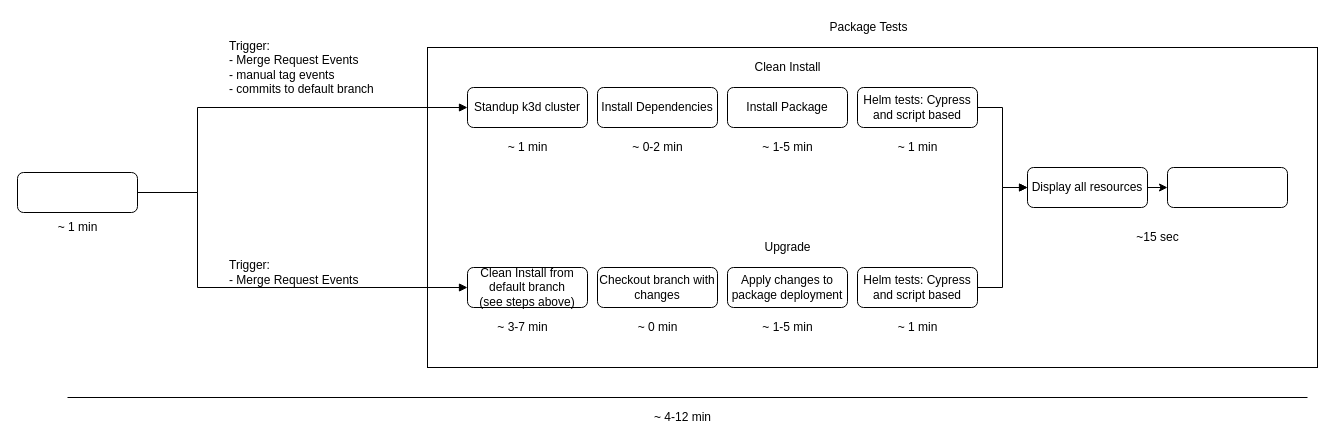
Some shapes in this 1335 by 444 pixel diagram are drawn without their labels. Each missing label, with the centre of its shape:
"configuration validation" goes at point 77,192.
"Delete Cluster" goes at point 1227,187.
